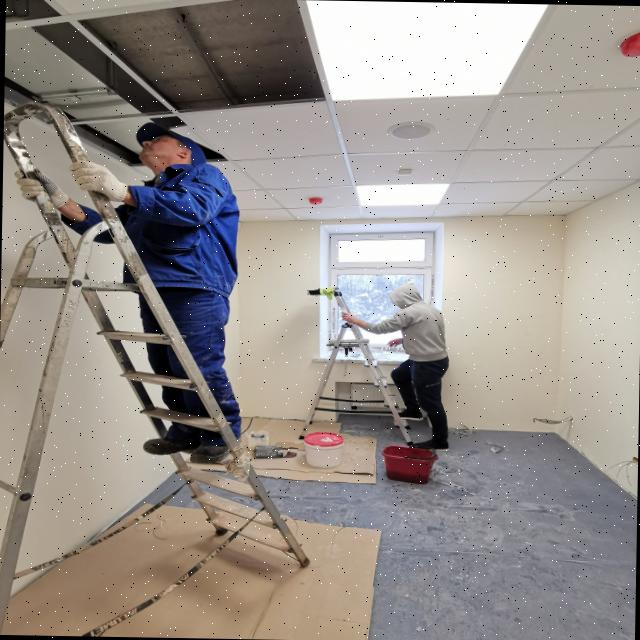NoHelmet: (131, 122, 208, 175), (387, 283, 424, 312)
